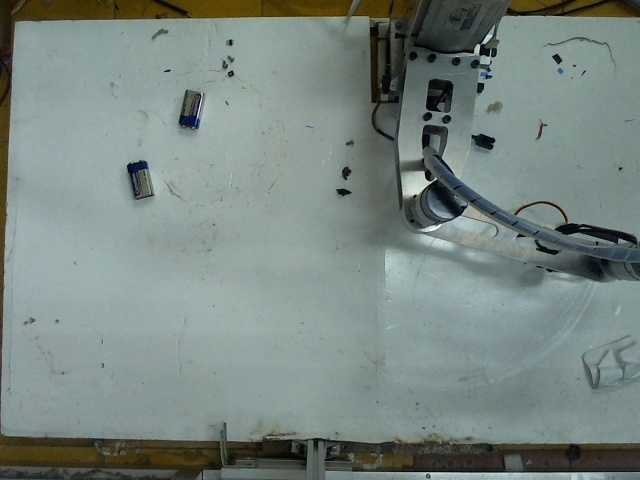battery: (124, 154, 157, 201), (175, 87, 202, 123)
